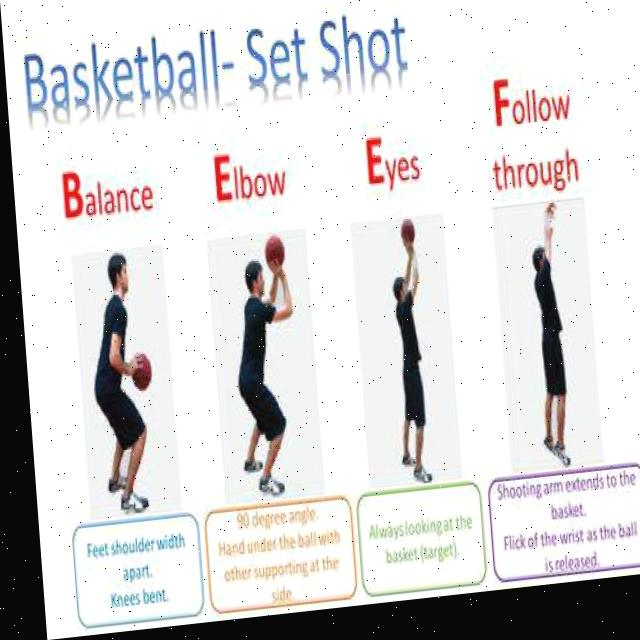Basketball: (131, 353, 154, 393), (264, 233, 287, 272), (399, 218, 416, 247), (543, 202, 560, 228)
